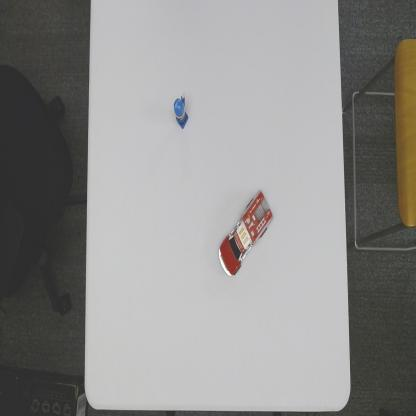Firetruck: (218, 186, 276, 283)
